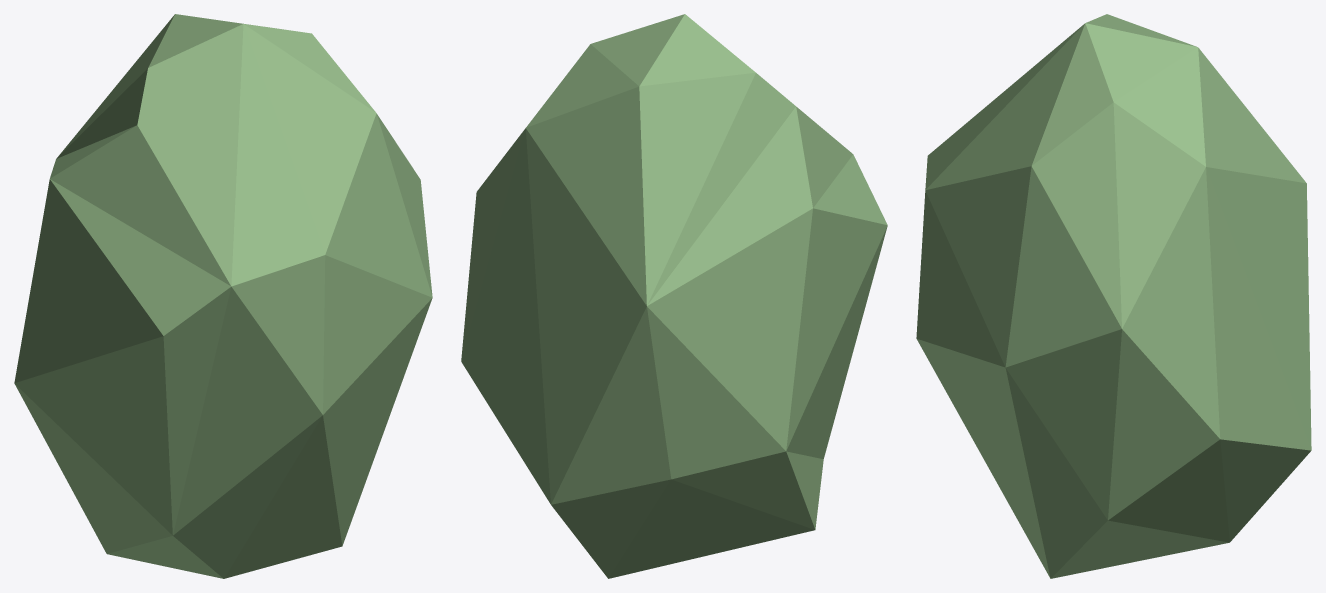
Rendered from RhamnusAlaternus.glb.
3 renders of one model, left to right at view 1: azimuth 30°, elevation 25°; view 2: azimuth 150°, elevation 25°; view 3: azimuth 270°, elevation 25°, orthographic. The views are drawn at different scales.
Visible parts, largest first — view 1: Crown; view 2: Crown; view 3: Crown.
Part boxes in pixels (left/top/right/bottom): Crown: left=14, top=14, right=432, bottom=578; Crown: left=461, top=14, right=887, bottom=578; Crown: left=916, top=14, right=1311, bottom=578.
Size of the model in its own units: 2.96 by 4.12 by 2.86.
